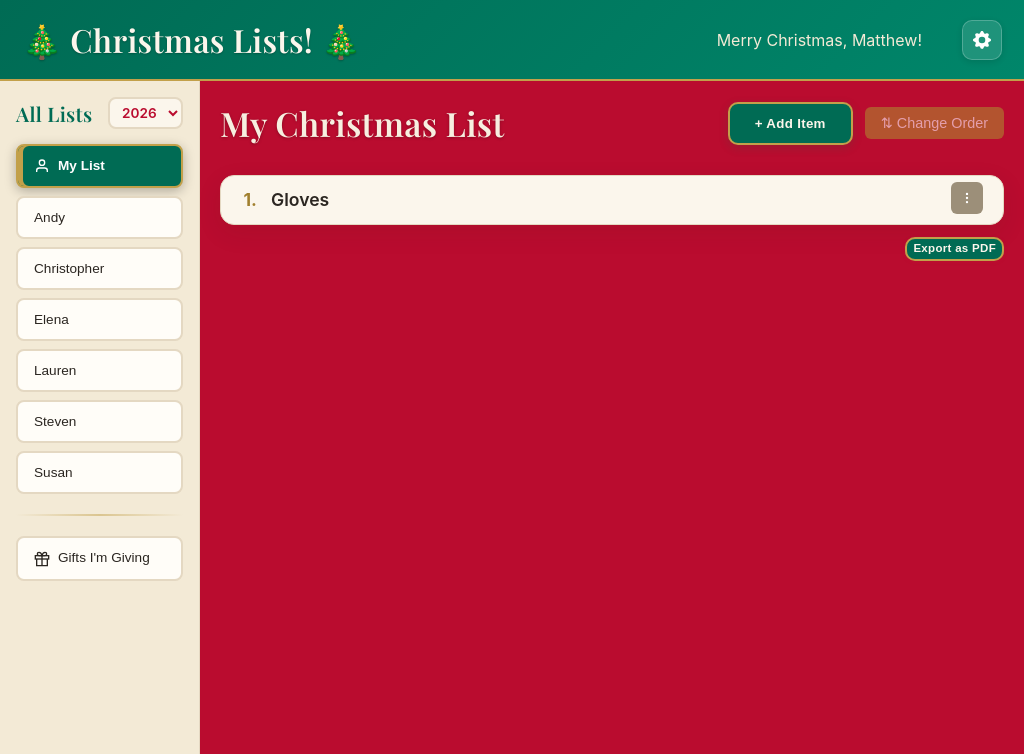
an archived season is read-only › no gifts can be added
This screenshot has width=1024, height=754.
expect the heading "Gloves" is shown: met, box x1=271 y1=188 x2=329 y2=212
Select "2025" in the dropdown named "Christmas year" at (146, 113), box x1=108 y1=97 x2=183 y2=129
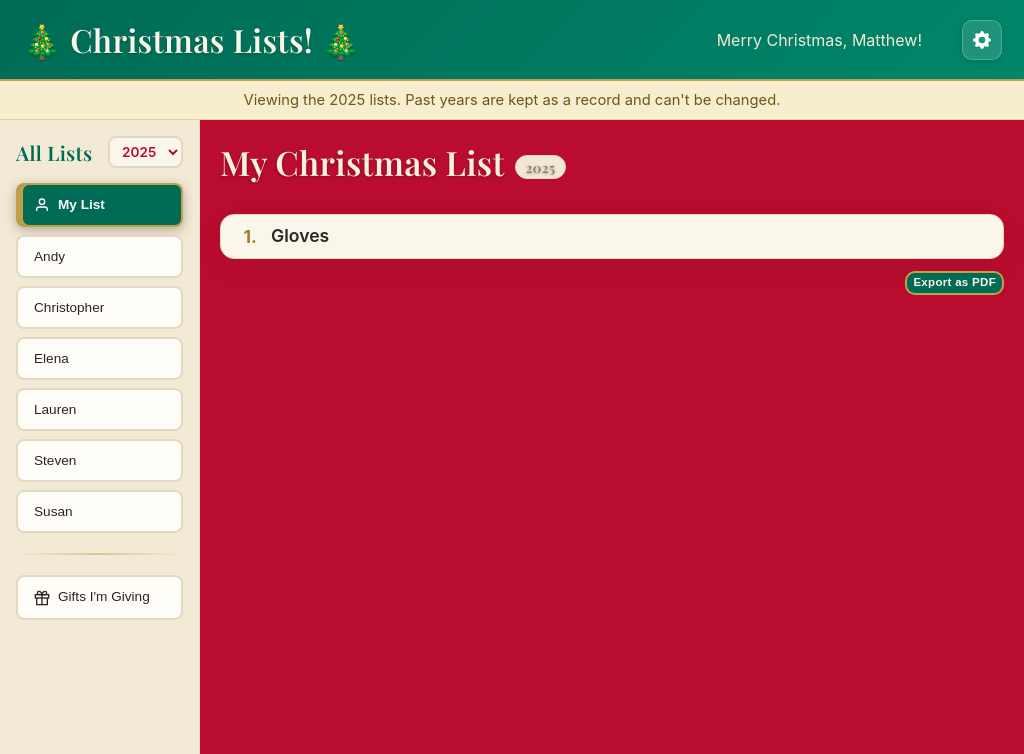
Click the button "Gifts I'm Giving" at (100, 598), box x1=16 y1=575 x2=183 y2=620
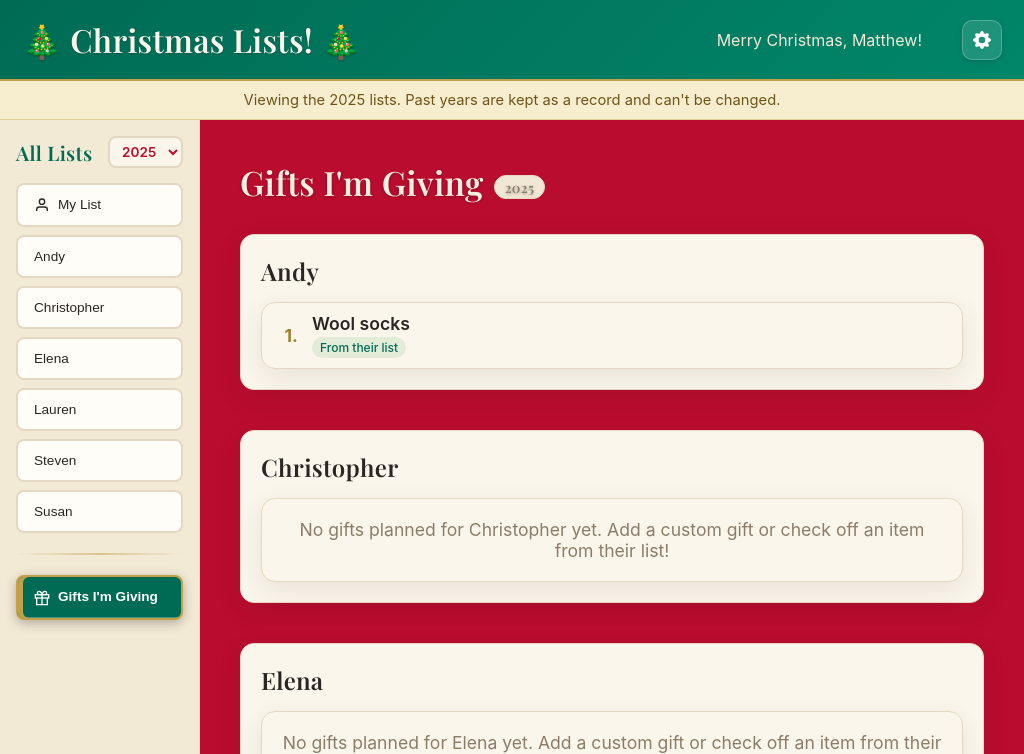
expect the heading "Andy" is shown: met, box x1=261 y1=255 x2=319 y2=287
